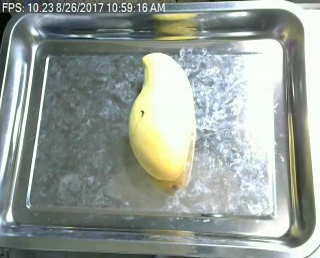Mango: (127, 51, 197, 182)
